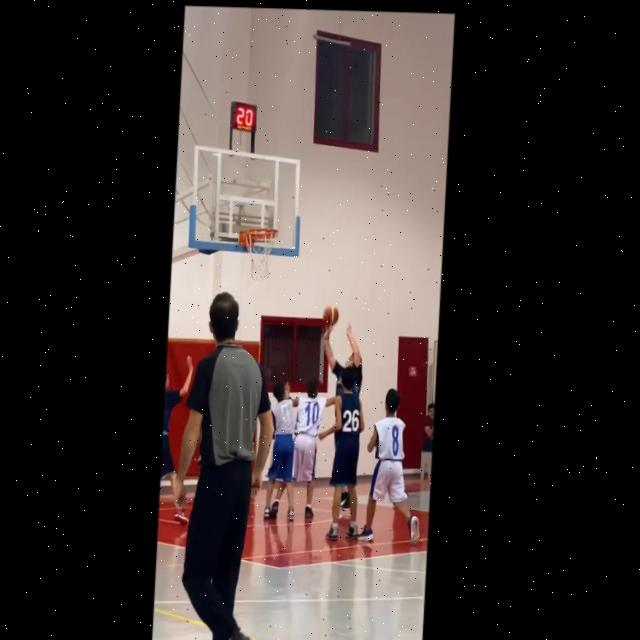basketball: (322, 302, 340, 325)
hoop: (244, 226, 281, 284)
